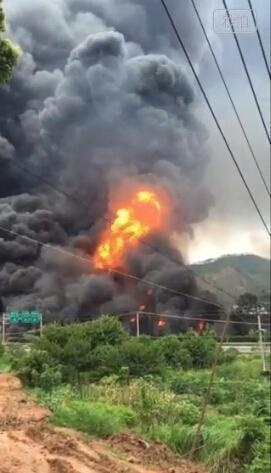fire: (95, 191, 161, 268)
